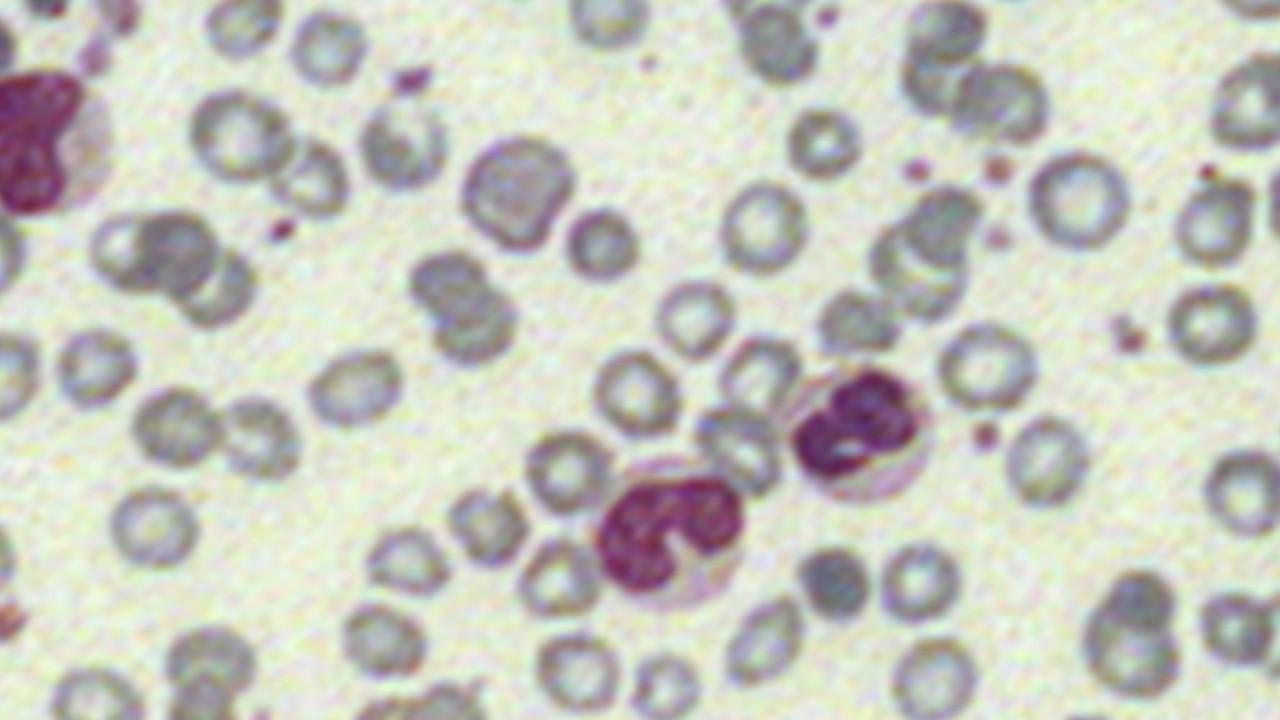RBC: (458, 127, 580, 257), (1022, 147, 1136, 257), (182, 81, 296, 191), (712, 175, 812, 282), (945, 55, 1057, 150), (301, 337, 411, 432), (586, 344, 688, 446), (1165, 169, 1259, 278), (720, 585, 813, 695), (1158, 276, 1264, 372), (208, 386, 307, 488), (127, 378, 226, 476), (519, 424, 614, 524), (259, 127, 356, 224), (49, 320, 143, 418), (713, 328, 805, 428), (1204, 41, 1280, 160), (511, 528, 604, 624), (529, 626, 626, 717), (648, 272, 740, 366), (136, 204, 222, 304), (780, 96, 869, 186), (621, 644, 708, 719), (0, 318, 47, 432)
WBC: (592, 469, 752, 616), (0, 67, 117, 221)
